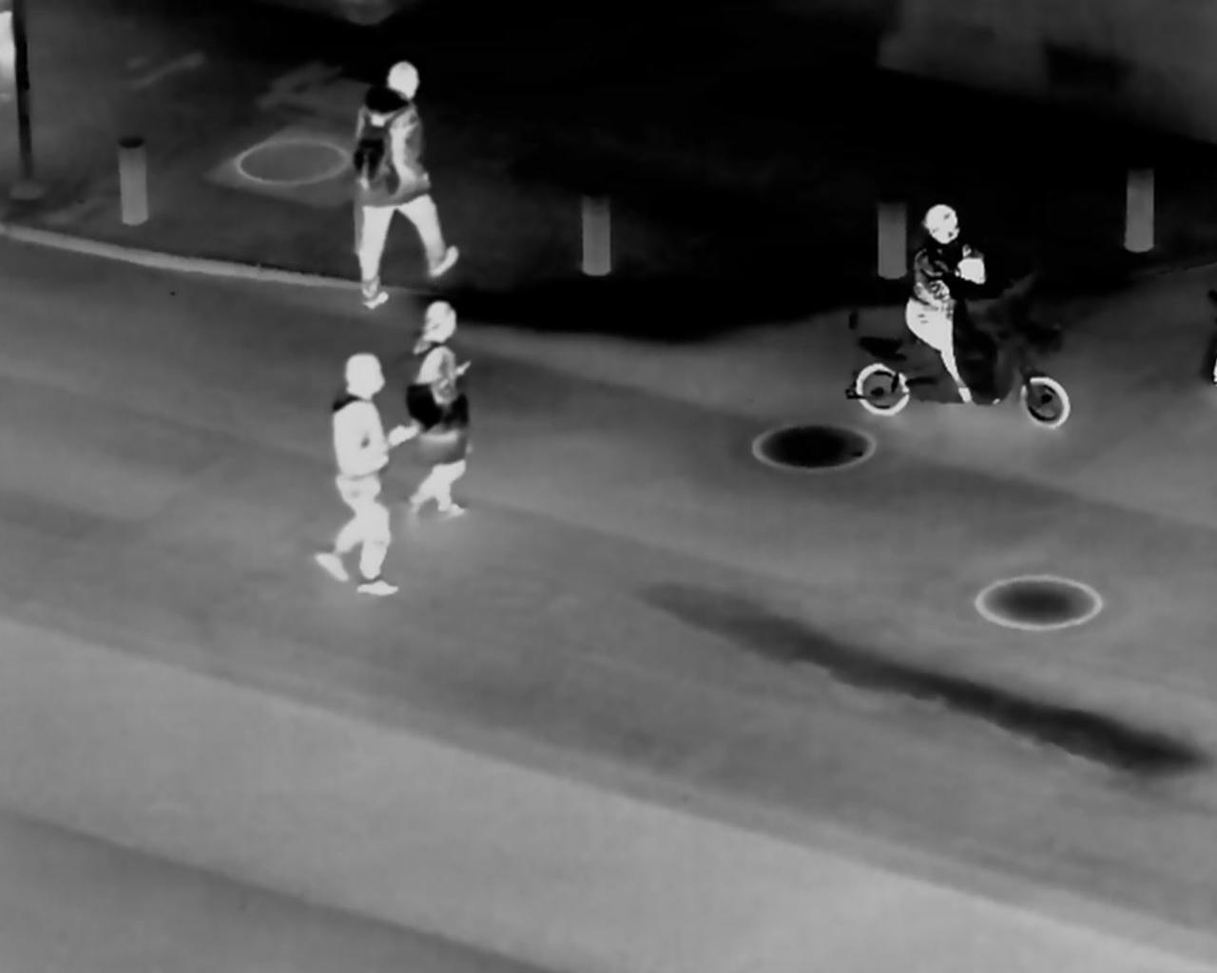person: (348, 57, 456, 316), (308, 341, 411, 605), (396, 293, 475, 522), (899, 202, 985, 396)
